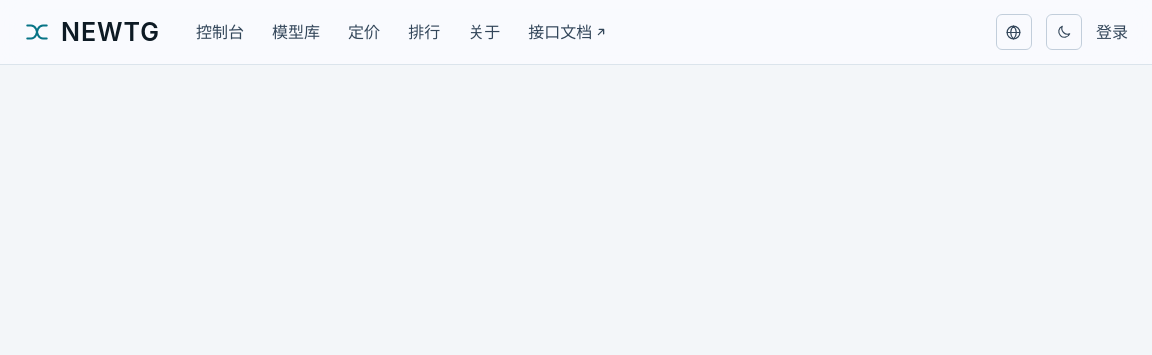
Test: SiteHeader › closes the language menu on Escape and returns focus to the globe
Click the button named "语言" at (1014,32), box [996,14,1032,50]
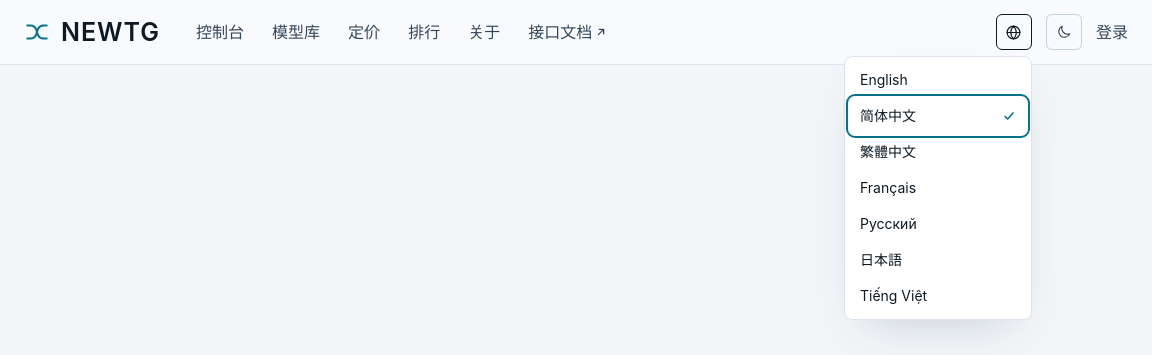
Now the menu named "语言" is shown, box [844,56,1032,320]
Press Escape
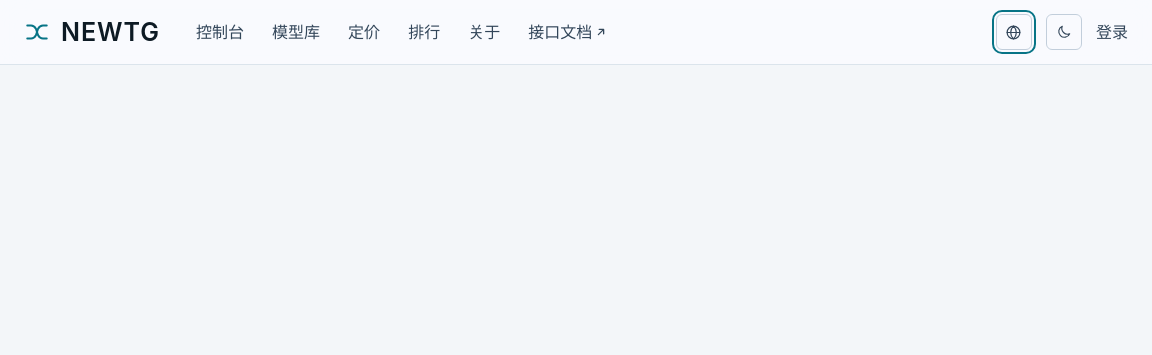
Now the menu "语言" is gone
